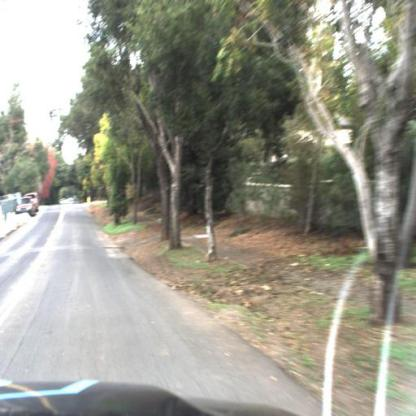car: (17, 198, 37, 217), (24, 194, 40, 211)
